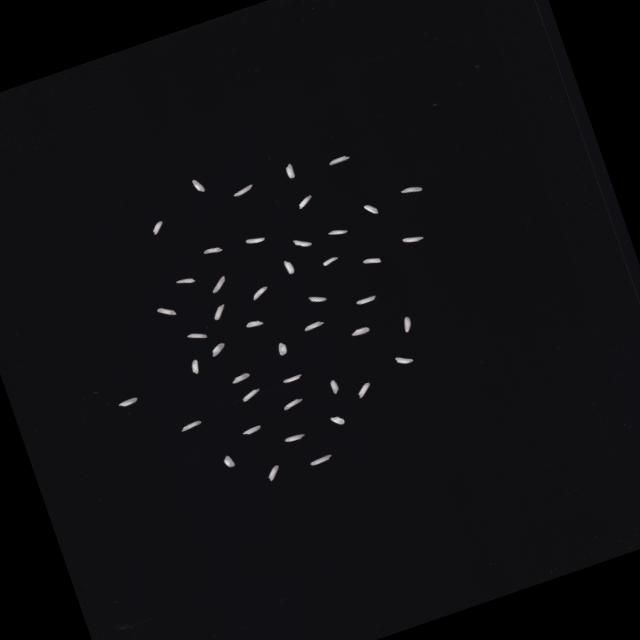Chalky: (210, 274, 230, 294), (156, 302, 177, 320), (231, 182, 254, 198), (240, 386, 262, 402), (309, 452, 334, 466), (401, 231, 424, 246), (355, 381, 374, 399), (265, 464, 283, 482), (210, 303, 228, 321), (282, 396, 305, 410), (208, 342, 228, 358), (292, 234, 312, 250), (304, 318, 326, 332), (186, 328, 208, 342), (180, 418, 202, 432), (245, 232, 267, 246), (250, 285, 270, 300), (400, 182, 423, 195), (328, 153, 351, 166), (362, 202, 380, 218), (296, 194, 314, 210), (116, 396, 140, 408), (356, 293, 378, 306), (395, 352, 413, 367), (400, 315, 415, 333), (362, 255, 382, 268), (350, 325, 370, 338), (150, 220, 166, 236), (242, 424, 263, 436), (284, 431, 305, 443), (176, 274, 197, 286), (282, 372, 303, 384), (230, 372, 250, 384), (204, 244, 224, 256), (320, 254, 340, 266), (328, 226, 348, 238), (308, 292, 328, 304), (192, 176, 206, 193), (245, 317, 264, 329), (330, 413, 346, 427), (283, 258, 296, 274), (328, 378, 341, 394), (284, 162, 296, 179), (189, 359, 201, 375), (222, 454, 235, 468), (276, 341, 288, 356)
